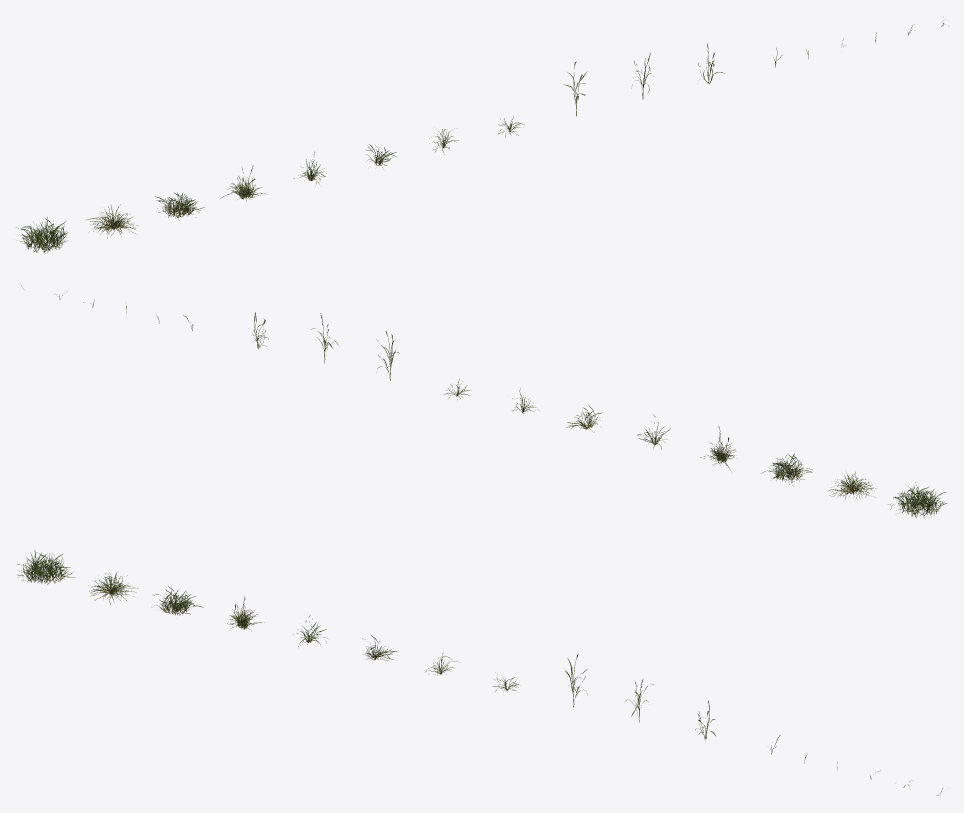
Rendered from grass_medium_01.gltf.
3 views of the same model, one above another, from view 1: azimuth 30°, elevation 25°; view 2: azimuth 150°, elevation 25°; view 3: azimuth 330°, elevation 25° (orthographic).
Parts seen in each view (by area): view 1: grass_medium_01_large_a_LOD0, grass_medium_01_large_c_LOD0, grass_medium_01_large_b_LOD0; view 2: grass_medium_01_large_a_LOD0, grass_medium_01_large_c_LOD0, grass_medium_01_large_b_LOD0; view 3: grass_medium_01_large_a_LOD0, grass_medium_01_large_c_LOD0, grass_medium_01_large_b_LOD0.
Boxes of the visible parts, <box> form: grass_medium_01_large_a_LOD0: <box>16,217,68,253</box>; grass_medium_01_large_c_LOD0: <box>155,192,204,220</box>; grass_medium_01_large_b_LOD0: <box>85,204,137,238</box>; grass_medium_01_large_a_LOD0: <box>888,482,947,517</box>; grass_medium_01_large_c_LOD0: <box>761,454,812,486</box>; grass_medium_01_large_b_LOD0: <box>828,472,876,499</box>; grass_medium_01_large_a_LOD0: <box>17,550,74,584</box>; grass_medium_01_large_c_LOD0: <box>152,586,203,615</box>; grass_medium_01_large_b_LOD0: <box>89,571,137,604</box>.
Bounding box in the file's own units: 5.6 × 0.3426 × 0.3266.
1 material, 1 textured.
